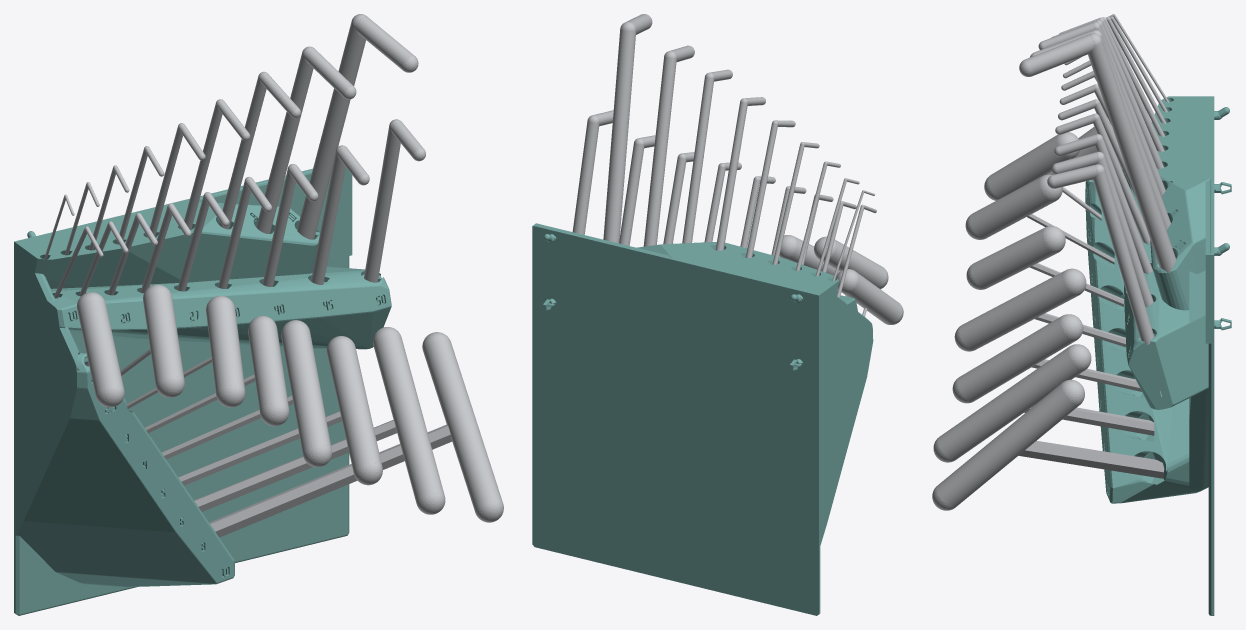
The model's file is loaded.glb.
3 renders of one model, left to right at view 1: azimuth 30°, elevation 25°; view 2: azimuth 150°, elevation 25°; view 3: azimuth 270°, elevation 25°, orthographic. The views are drawn at different scales.
Visible parts, largest first — view 1: holder, reference_envelope; view 2: holder, reference_envelope; view 3: reference_envelope, holder.
Part boxes in pixels (x1=…): holder: x1=14, y1=167, x2=391, y2=615; reference_envelope: x1=44, y1=14, x2=503, y2=537; holder: x1=532, y1=223, x2=873, y2=615; reference_envelope: x1=572, y1=14, x2=903, y2=324; reference_envelope: x1=932, y1=14, x2=1176, y2=510; holder: x1=1085, y1=96, x2=1231, y2=615.
Size of the model in its own units: 0.2606 by 0.3897 by 0.1889.
